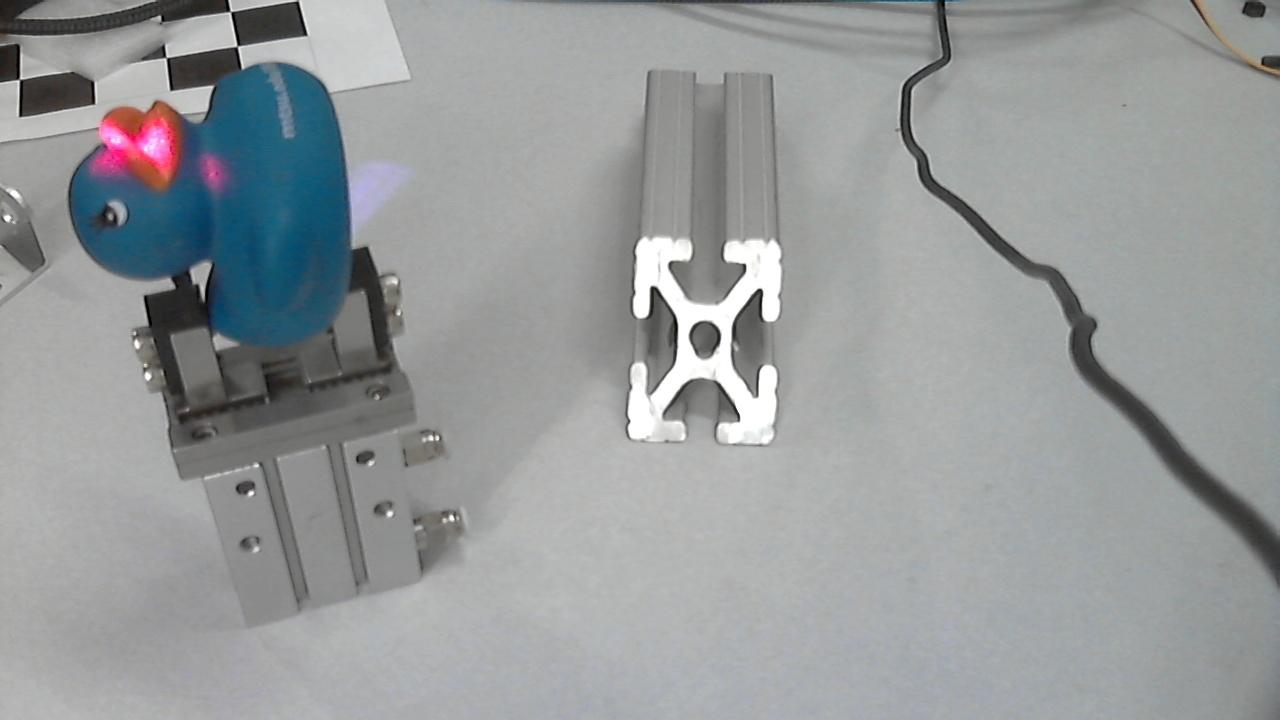Object scissors - Material metal - Pdfname tYexGlkiIXWc: (75, 113, 243, 223)
